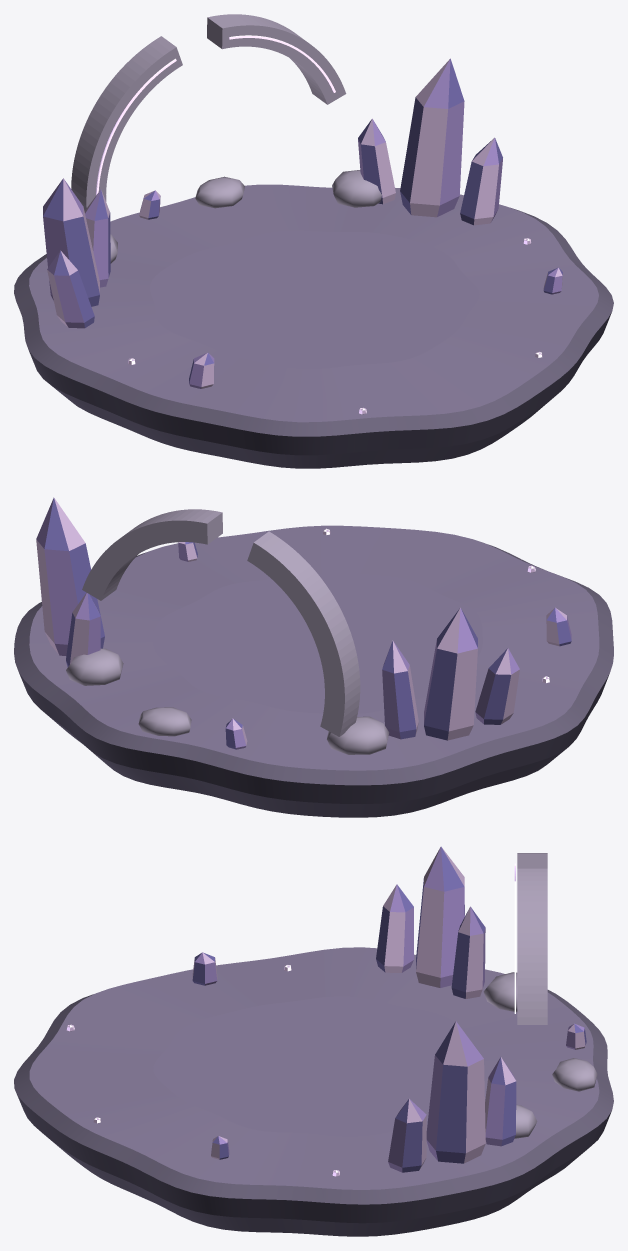
File: astral.glb
The picture shows the model from 3 angles, top to bottom: view 1: azimuth 30°, elevation 25°; view 2: azimuth 150°, elevation 25°; view 3: azimuth 270°, elevation 25°; orthographic projection.
Visible parts, largest first — view 1: Habitat_astral_astral_dust.001, Habitat_astral_astral_deep_stone.001, Habitat_astral_astral_ruin.001, Habitat_astral_astral_stone_edge.001, Habitat_astral_astral_crystal_pearl.001, Habitat_astral_astral_crystal_lilac.001, Habitat_astral_astral_crystal_violet.001, Habitat_astral_astral_starlight.001; view 2: Habitat_astral_astral_dust.001, Habitat_astral_astral_ruin.001, Habitat_astral_astral_deep_stone.001, Habitat_astral_astral_stone_edge.001, Habitat_astral_astral_crystal_violet.001, Habitat_astral_astral_crystal_pearl.001, Habitat_astral_astral_crystal_lilac.001; view 3: Habitat_astral_astral_dust.001, Habitat_astral_astral_deep_stone.001, Habitat_astral_astral_stone_edge.001, Habitat_astral_astral_crystal_pearl.001, Habitat_astral_astral_crystal_violet.001, Habitat_astral_astral_ruin.001, Habitat_astral_astral_crystal_lilac.001.
Boxes of the visible parts, <box> form: Habitat_astral_astral_dust.001: <box>29,184,598,422</box>; Habitat_astral_astral_deep_stone.001: <box>29,312,611,468</box>; Habitat_astral_astral_ruin.001: <box>71,14,381,263</box>; Habitat_astral_astral_stone_edge.001: <box>14,208,613,436</box>; Habitat_astral_astral_crystal_pearl.001: <box>47,59,562,414</box>; Habitat_astral_astral_crystal_lilac.001: <box>43,58,562,388</box>; Habitat_astral_astral_crystal_violet.001: <box>43,59,562,383</box>; Habitat_astral_astral_starlight.001: <box>96,35,541,414</box>; Habitat_astral_astral_dust.001: <box>29,525,599,770</box>; Habitat_astral_astral_ruin.001: <box>66,509,389,754</box>; Habitat_astral_astral_deep_stone.001: <box>19,673,609,817</box>; Habitat_astral_astral_stone_edge.001: <box>14,542,613,785</box>; Habitat_astral_astral_crystal_violet.001: <box>44,498,571,749</box>; Habitat_astral_astral_crystal_pearl.001: <box>36,498,566,744</box>; Habitat_astral_astral_crystal_lilac.001: <box>36,498,571,749</box>; Habitat_astral_astral_dust.001: <box>29,947,599,1189</box>; Habitat_astral_astral_deep_stone.001: <box>15,1090,611,1236</box>; Habitat_astral_astral_stone_edge.001: <box>14,990,613,1204</box>; Habitat_astral_astral_crystal_pearl.001: <box>67,847,585,1176</box>; Habitat_astral_astral_crystal_violet.001: <box>192,846,586,1172</box>; Habitat_astral_astral_ruin.001: <box>483,853,597,1138</box>; Habitat_astral_astral_crystal_lilac.001: <box>195,847,584,1172</box>.
Size of the model in its own units: 6.35 by 3.01 by 6.3.
